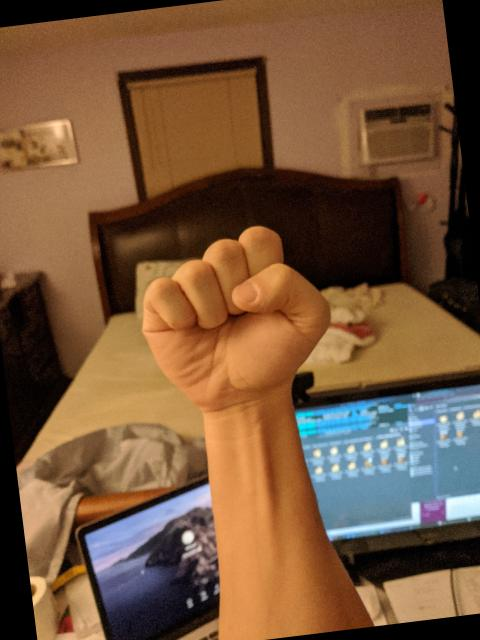S: (126, 215, 343, 416)
